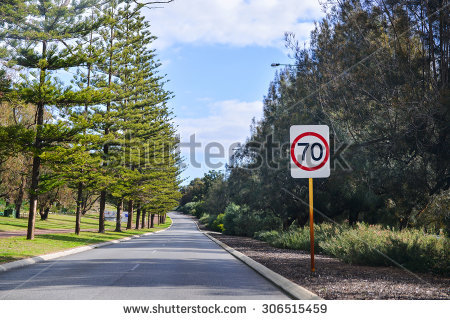Speed_limit_70km: (290, 133, 330, 172)
